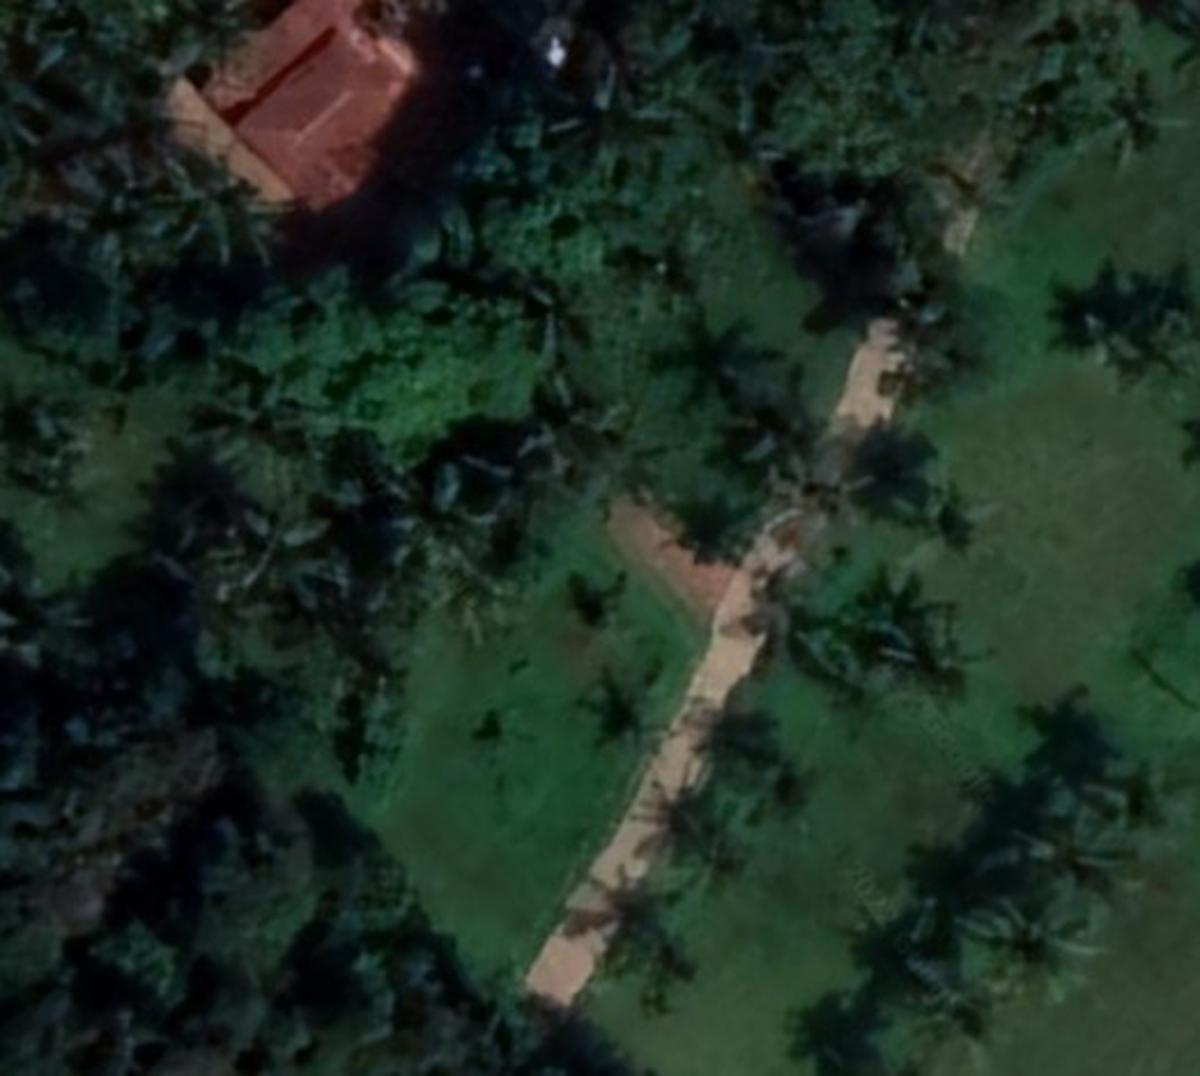coconut: (1004, 756, 1147, 898), (942, 878, 1096, 1000), (887, 588, 990, 701), (742, 395, 843, 503), (685, 807, 758, 919), (622, 924, 717, 990)
